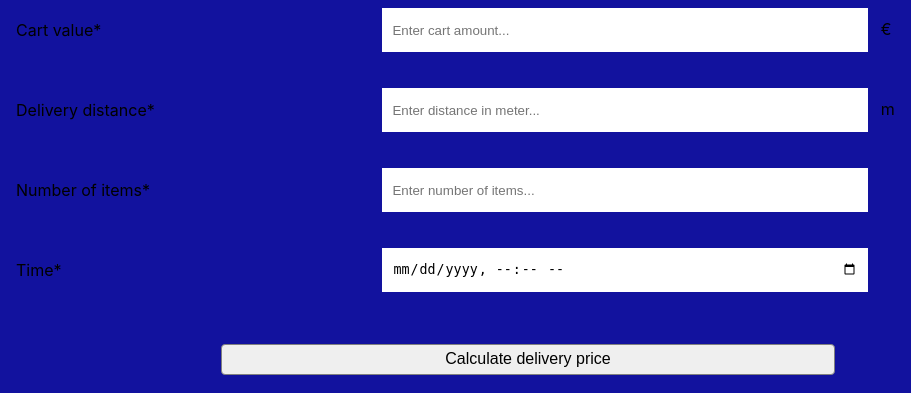
Test case: check DeliveryForm renders › Error message display with all empty entries
Click the button "Calculate delivery price" at (528, 359), box left=221, top=344, right=835, bottom=375
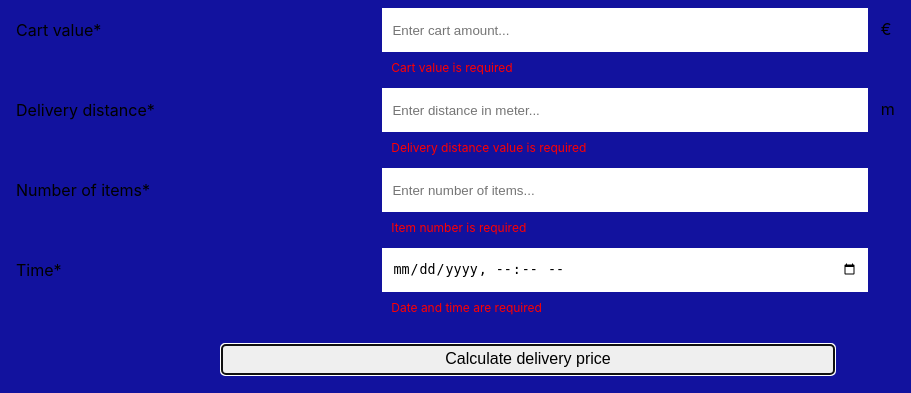
Result: the text with test id "cartValueError" reads "Cart value is required" at left=391, top=60, right=513, bottom=75
Result: the text with test id "deliveryDistanceError" reads "Delivery distance value is required" at left=391, top=140, right=586, bottom=155
Result: the text with test id "itemNumberError" reads "Item number is required" at left=391, top=220, right=526, bottom=235
